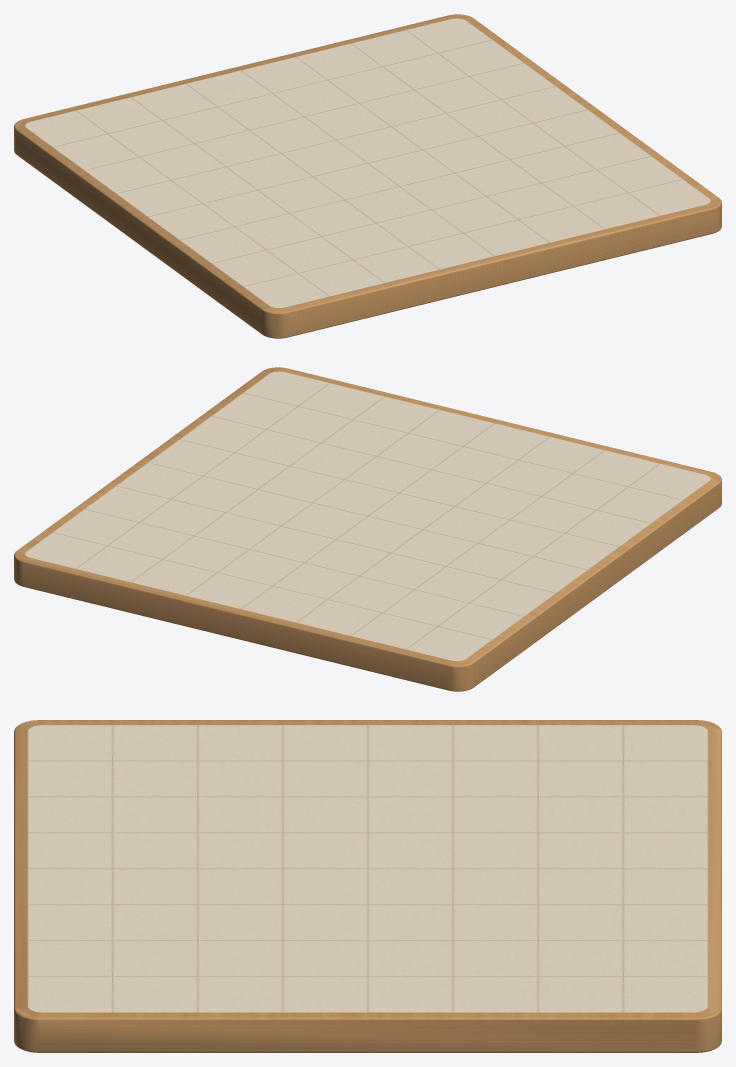
File: floor.glb
The picture shows the model from 3 angles, top to bottom: view 1: azimuth 30°, elevation 25°; view 2: azimuth 150°, elevation 25°; view 3: azimuth 270°, elevation 25°; orthographic projection. The views are drawn at different scales.
Visible parts, largest first — view 1: 瓷砖地面, 圆角木框; view 2: 瓷砖地面, 圆角木框; view 3: 瓷砖地面, 圆角木框.
Part boxes in pixels (x1,y1,x2,y2): 瓷砖地面: (25,18,710,307); 圆角木框: (14,14,721,338); 瓷砖地面: (25,371,710,660); 圆角木框: (14,367,721,691); 瓷砖地面: (27,725,708,1012); 圆角木框: (14,720,721,1052).
Bounding box in the file's own units: 5.2 × 0.285 × 5.2.
Materials: 2 (2 with a texture image).
